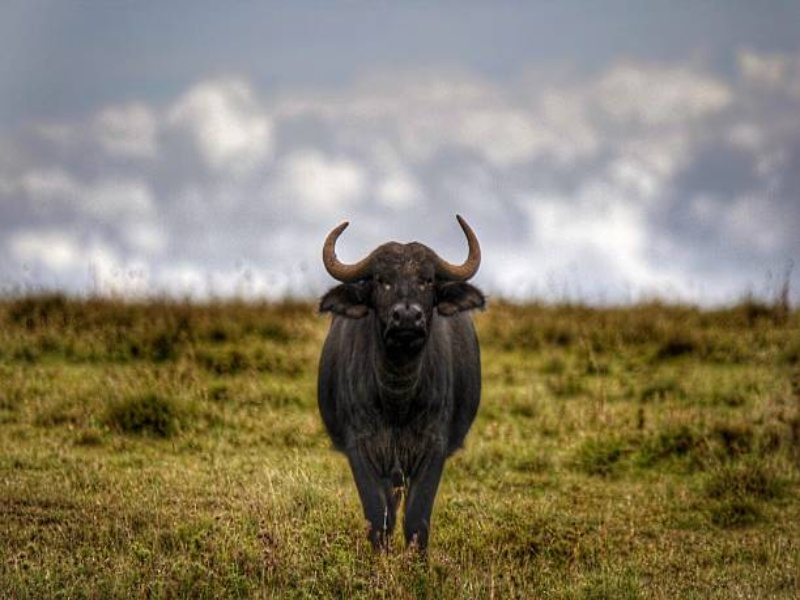buffalo: (302, 213, 501, 570)
